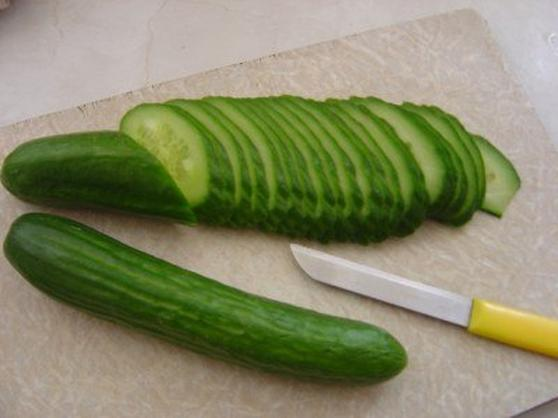cucumber: (5, 203, 415, 390)
